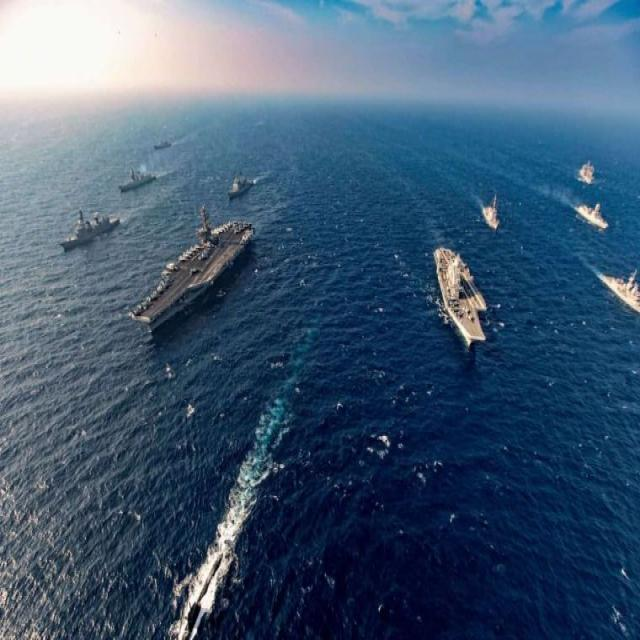ship2: (129, 205, 254, 330), (432, 247, 489, 356), (61, 210, 120, 252), (602, 267, 639, 317), (117, 167, 159, 193), (574, 201, 609, 232), (477, 192, 502, 232), (227, 170, 257, 202), (578, 159, 596, 185)
